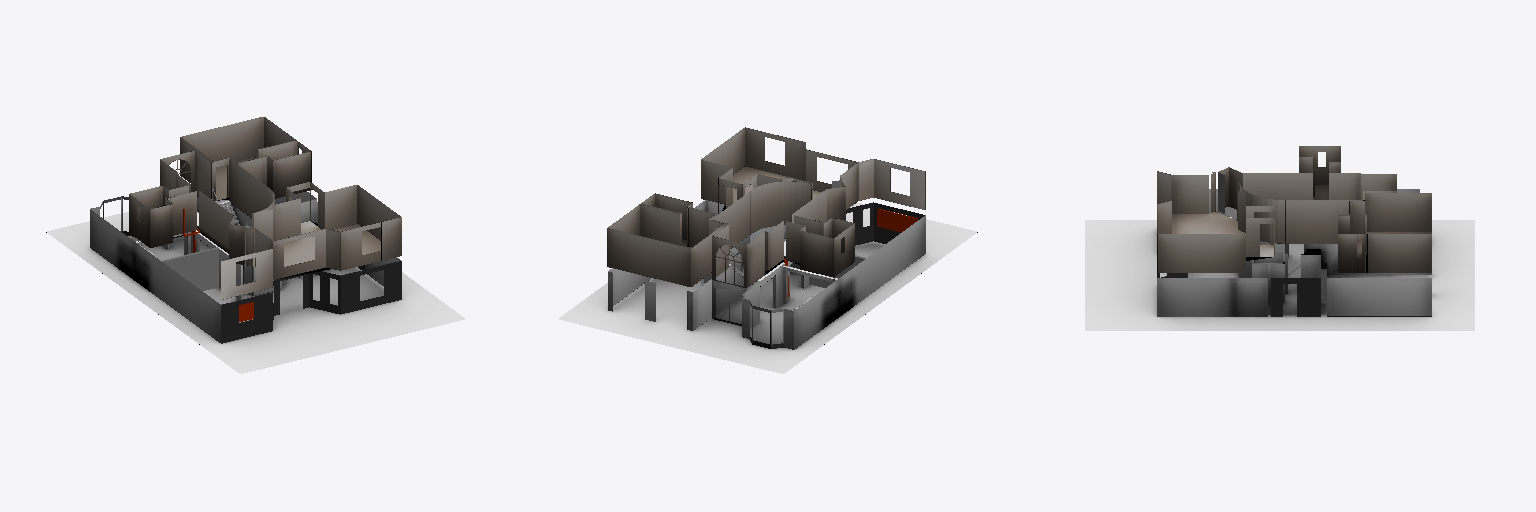
3 views of the same model, side by side, from view 1: azimuth 30°, elevation 25°; view 2: azimuth 150°, elevation 25°; view 3: azimuth 270°, elevation 25° (orthographic).
Visible parts, largest first — view 1: polySurface114, group3 polySurface4 polySurface2 polySurface21 polySurface6, group3 polySurface4 polySurface2 polySurface6 polySurface24 poly, pasted__polySurface5 group5, pCube1; view 2: polySurface114, group3 polySurface4 polySurface2 polySurface21 polySurface6, group3 polySurface4 polySurface2 polySurface6 polySurface24 poly, pasted__polySurface5 group5, pCube2; view 3: polySurface114, group3 polySurface4 polySurface2 polySurface21 polySurface6, group3 polySurface4 polySurface2 polySurface6 polySurface24 poly, group3 polySurface4 polySurface2 polySurface6 polySurface44 poly.
Boxes of the visible parts, <box> form: polySurface114: <box>129,117,401,299</box>; group3 polySurface4 polySurface2 polySurface21 polySurface6: <box>46,206,464,373</box>; group3 polySurface4 polySurface2 polySurface6 polySurface24 poly: <box>90,191,326,342</box>; pasted__polySurface5 group5: <box>221,261,401,343</box>; pCube1: <box>162,247,218,290</box>; polySurface114: <box>607,127,925,287</box>; group3 polySurface4 polySurface2 polySurface21 polySurface6: <box>559,202,977,373</box>; group3 polySurface4 polySurface2 polySurface6 polySurface24 poly: <box>608,215,925,349</box>; pasted__polySurface5 group5: <box>846,202,924,245</box>; pCube2: <box>877,209,917,232</box>; polySurface114: <box>1157,146,1431,272</box>; group3 polySurface4 polySurface2 polySurface21 polySurface6: <box>1085,220,1474,330</box>; group3 polySurface4 polySurface2 polySurface6 polySurface24 poly: <box>1209,189,1431,316</box>; group3 polySurface4 polySurface2 polySurface6 polySurface44 poly: <box>1157,278,1320,316</box>.
Bounding box in the file's own units: 1478 × 790 × 2205.
Materials: 5 (2 with a texture image).